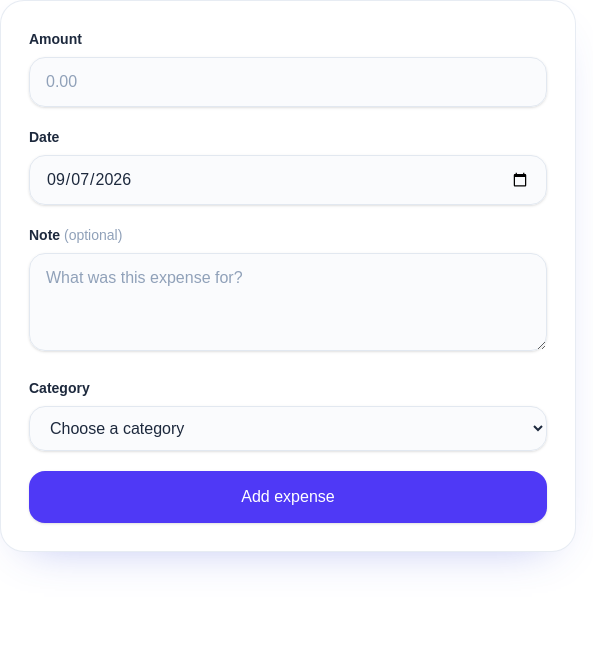
AddExpenseForm › rejects a negative amount
The width and height of the screenshot is (593, 652).
In the number field labelled "Amount": (288, 82) [29,57,547,107], type "-12"
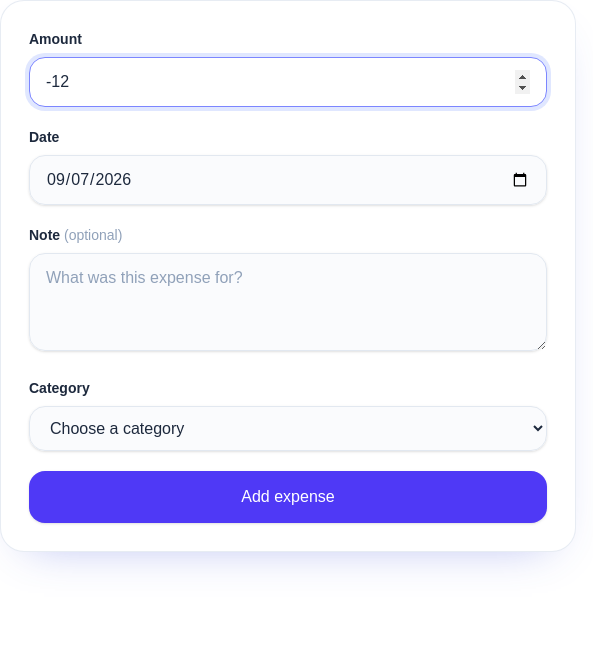
Select "Food" in the dropdown labelled "Category": (288, 428) [29,406,547,451]
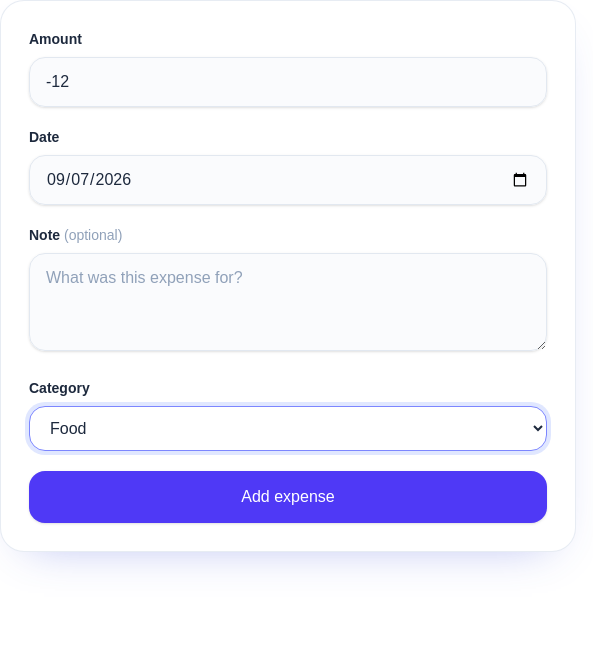
Click the button "Add expense": (288, 497) [29,471,547,523]
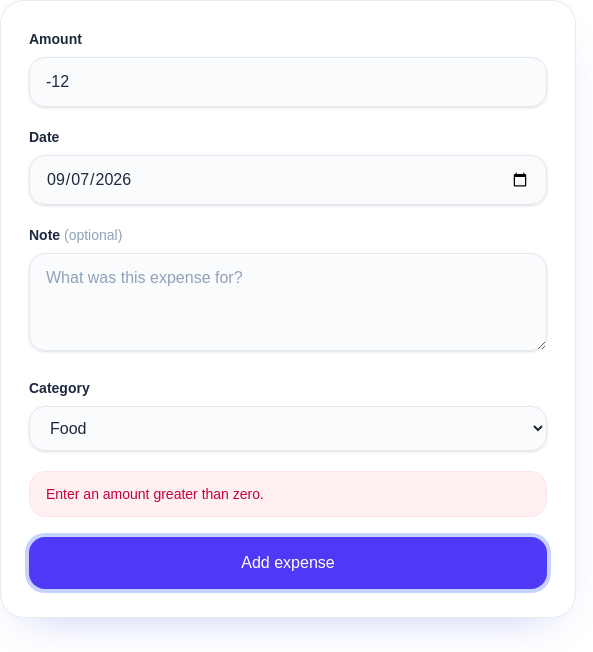
Expected: the message shows "amount greater than zero", [46,486,264,502]
